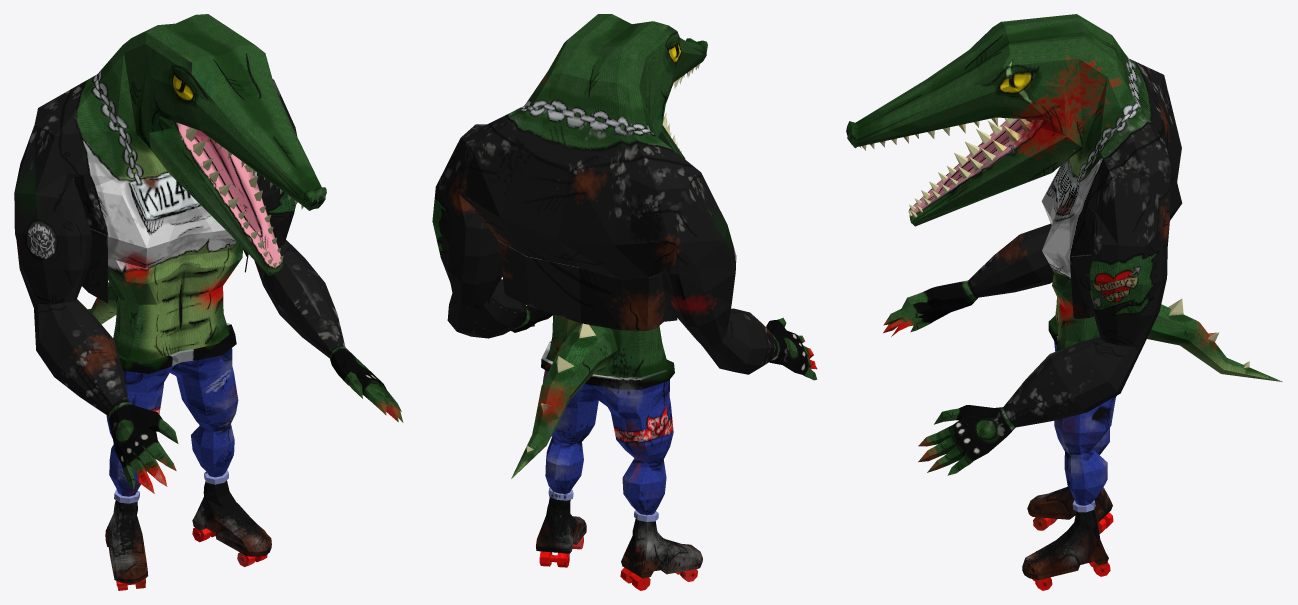
File: cocodrilaBonesSelect_000031.obj
3 views of the same model, side by side, from view 1: azimuth 30°, elevation 25°; view 2: azimuth 150°, elevation 25°; view 3: azimuth 270°, elevation 25° (orthographic).
Parts seen in each view (by area): view 1: Crocodile.002_Cylinder.002; view 2: Crocodile.002_Cylinder.002; view 3: Crocodile.002_Cylinder.002.
Part boxes in pixels (left/top/right/bottom): Crocodile.002_Cylinder.002: left=14, top=14, right=403, bottom=590; Crocodile.002_Cylinder.002: left=432, top=14, right=817, bottom=590; Crocodile.002_Cylinder.002: left=846, top=14, right=1282, bottom=590.
Size of the model in its own units: 3.96 by 6.72 by 5.02.
